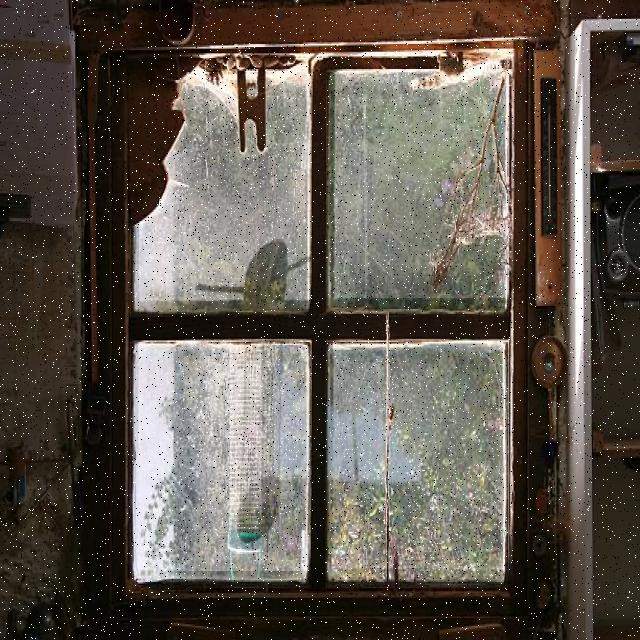Window: (114, 45, 524, 616)
